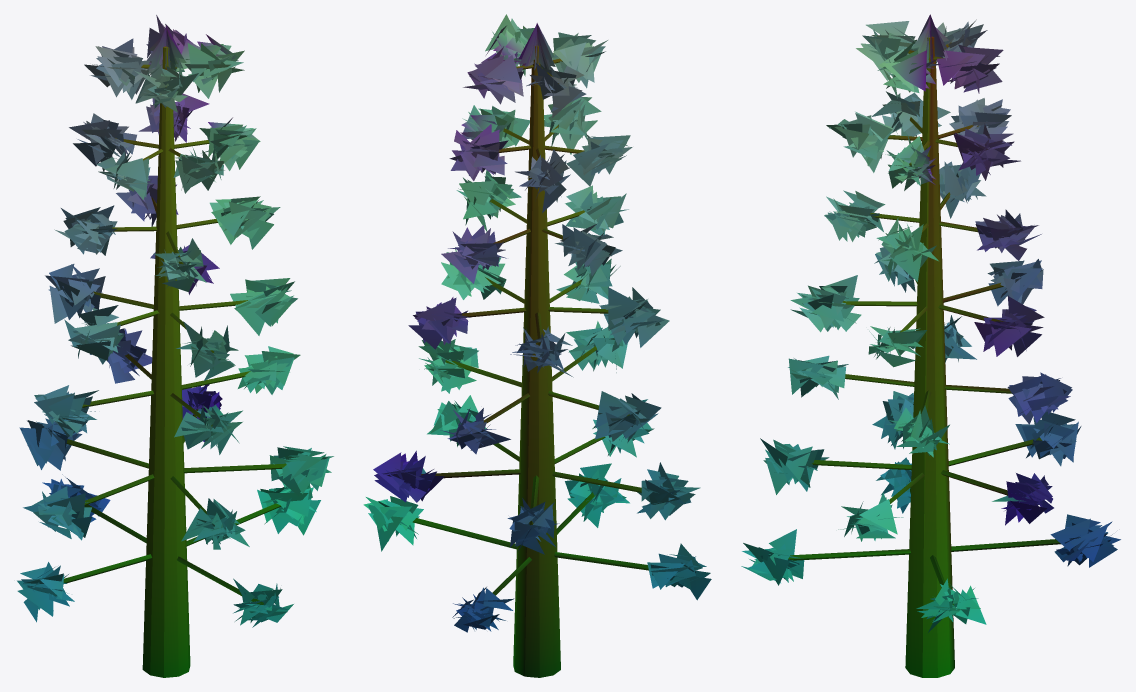
Rendered from ecological_conifer_established_02.glb.
3 views of the same model, side by side, from view 1: azimuth 30°, elevation 25°; view 2: azimuth 150°, elevation 25°; view 3: azimuth 270°, elevation 25° (orthographic).
Parts seen in each view (by area): view 1: ecological_conifer_established_02; view 2: ecological_conifer_established_02; view 3: ecological_conifer_established_02.
Part boxes in pixels (x1,y1,x2,y2): ecological_conifer_established_02: (17, 15, 333, 677); ecological_conifer_established_02: (363, 14, 711, 677); ecological_conifer_established_02: (741, 14, 1120, 677).
Bounding box in the file's own units: 9.12 × 17.54 × 9.26.
